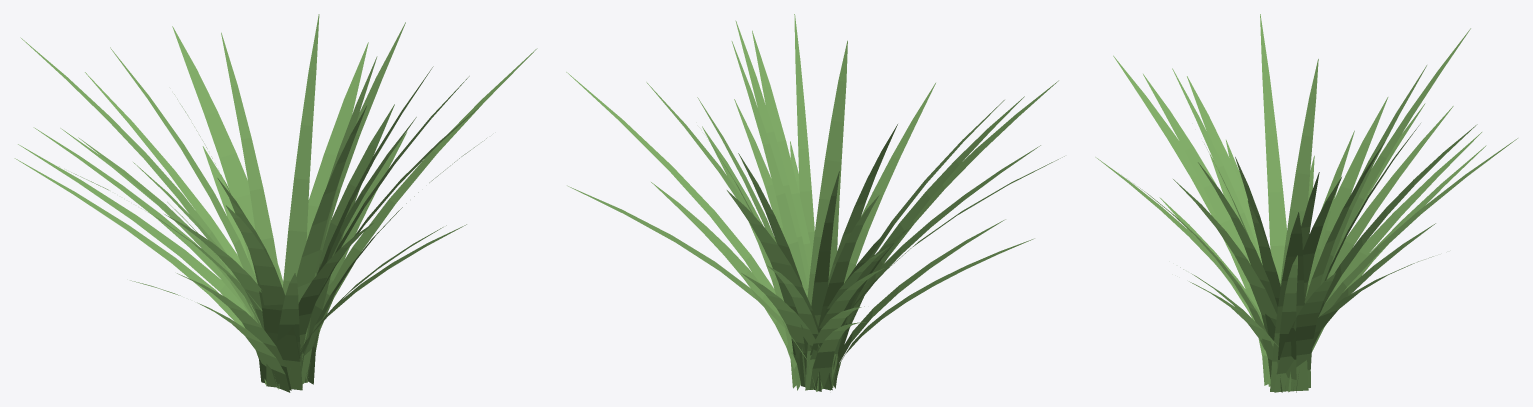
Rendered from grass-tuft.glb.
3 views of the same model, side by side, from view 1: azimuth 30°, elevation 25°; view 2: azimuth 150°, elevation 25°; view 3: azimuth 270°, elevation 25° (orthographic). The views are drawn at different scales.
Visible parts, largest first — view 1: grass-tuft; view 2: grass-tuft; view 3: grass-tuft.
Boxes of the visible parts, x1,y1,x2,y2 form: grass-tuft: (14, 14, 537, 392); grass-tuft: (566, 14, 1064, 391); grass-tuft: (1095, 14, 1517, 392).
Size of the model in its own units: 1 by 0.5931 by 0.8042.
